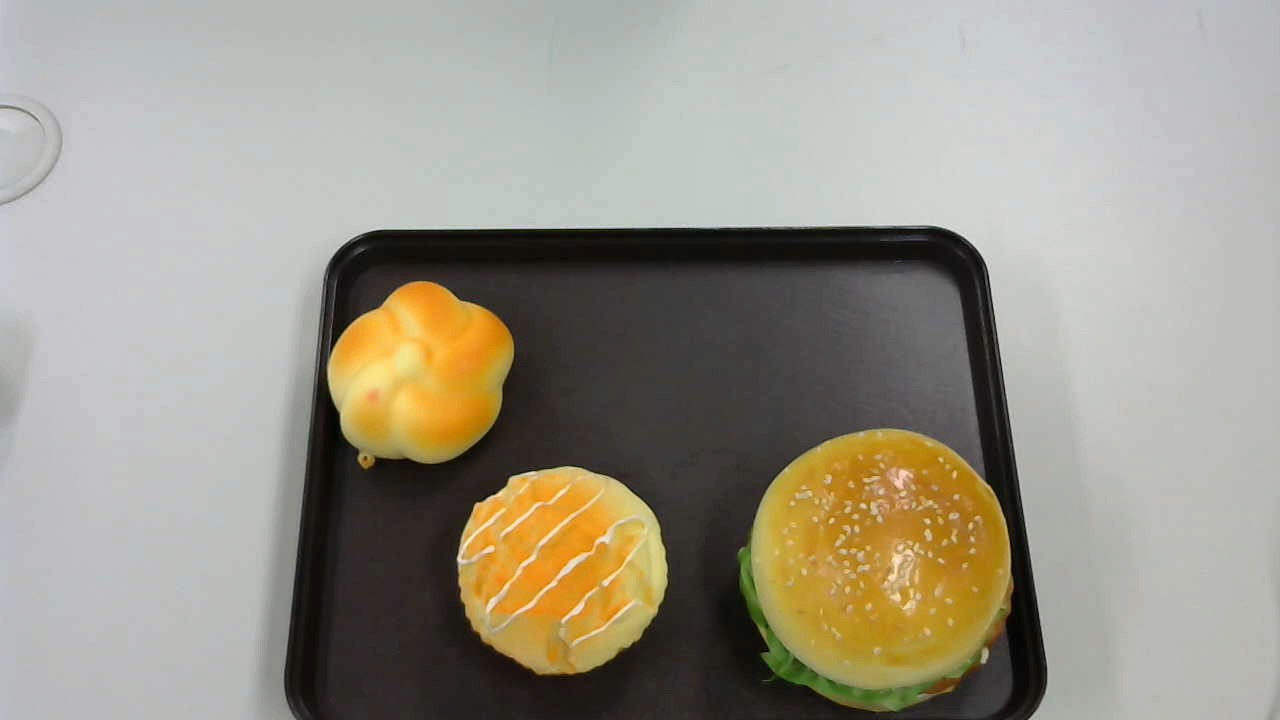cupcake: (457, 465, 667, 677)
hamburger: (737, 427, 1014, 711)
twist bread: (327, 281, 515, 468)
